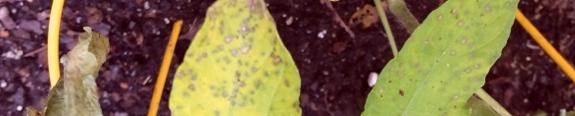Tomato Septoria leaf spot: (346, 0, 537, 116), (167, 0, 312, 116)
